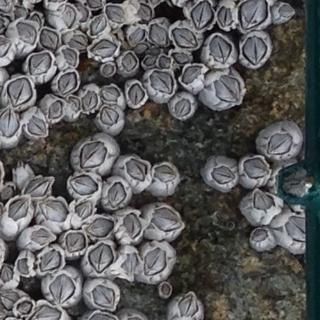Barnacle: (238, 0, 267, 31), (17, 13, 43, 45), (241, 34, 267, 65), (215, 75, 242, 104), (49, 274, 75, 304), (88, 243, 113, 274), (152, 208, 183, 233), (79, 143, 107, 170), (286, 216, 315, 242), (7, 78, 33, 107), (267, 131, 297, 156), (38, 200, 69, 223), (143, 248, 169, 275), (70, 174, 100, 197), (93, 283, 116, 311), (209, 36, 232, 64), (192, 0, 213, 30), (121, 213, 143, 240), (151, 71, 175, 95), (37, 249, 61, 272), (244, 159, 268, 180), (0, 109, 18, 137), (174, 28, 199, 48), (29, 53, 51, 75), (87, 219, 113, 237), (90, 41, 117, 58), (25, 179, 50, 197), (108, 181, 125, 207), (149, 23, 168, 46), (30, 306, 61, 320), (177, 296, 198, 316), (0, 290, 20, 311), (65, 232, 86, 252), (8, 199, 28, 220), (127, 160, 147, 181), (28, 117, 48, 138), (59, 72, 77, 95), (252, 192, 274, 210), (42, 30, 60, 52), (122, 252, 139, 275), (154, 165, 174, 183), (48, 100, 65, 121), (217, 5, 233, 27), (182, 66, 201, 84), (106, 5, 125, 23), (33, 229, 53, 246), (75, 199, 92, 219), (101, 107, 118, 127), (214, 167, 235, 183), (174, 98, 191, 117), (69, 34, 88, 51), (90, 15, 107, 34), (83, 91, 99, 110), (61, 48, 77, 67), (128, 84, 143, 104), (121, 54, 137, 72), (62, 4, 74, 26), (136, 4, 152, 20), (68, 97, 81, 116), (17, 258, 30, 276), (102, 89, 120, 102), (171, 52, 190, 64), (1, 185, 16, 200), (277, 5, 293, 19), (129, 27, 142, 43), (18, 301, 34, 313), (0, 266, 12, 282), (252, 229, 269, 240), (77, 6, 88, 21), (143, 57, 158, 67), (160, 56, 172, 68), (135, 44, 148, 54), (103, 64, 114, 75), (162, 283, 171, 296), (87, 0, 101, 8), (151, 47, 158, 55)
